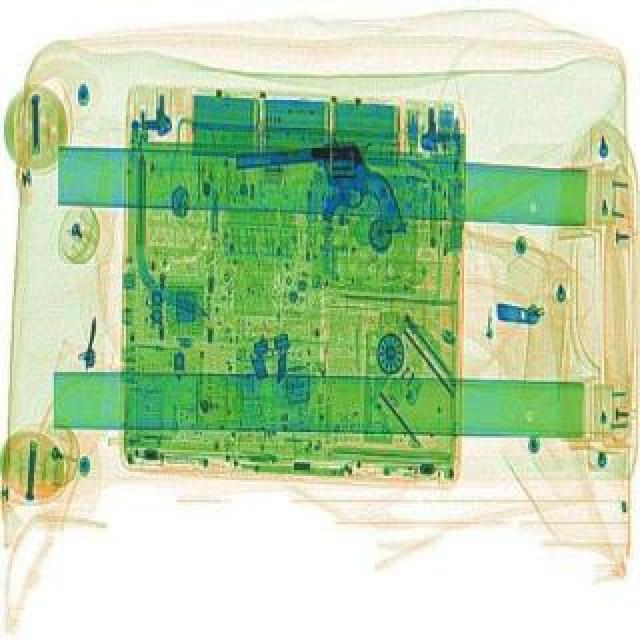gun: (230, 132, 406, 246)
